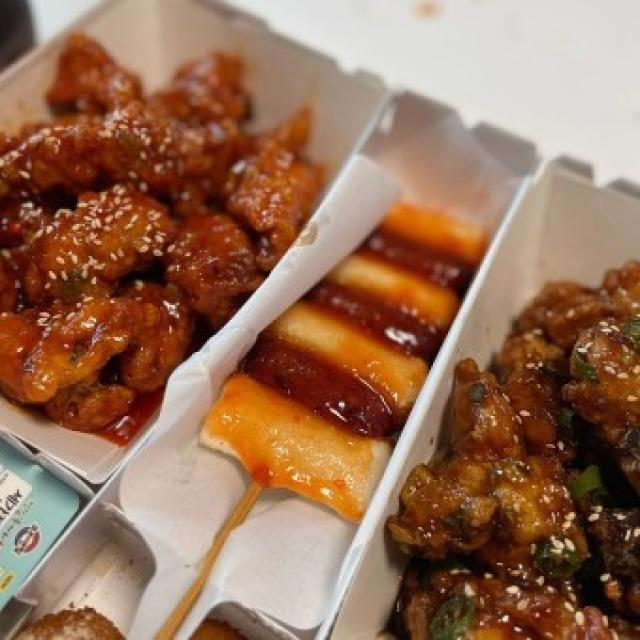Frango: (0, 36, 326, 443), (432, 264, 639, 640)
